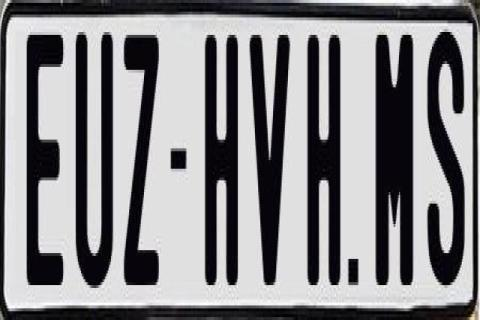E: (26, 29, 68, 279)
H: (304, 29, 344, 297), (205, 29, 243, 288)
M: (375, 32, 413, 296)
S: (426, 29, 460, 294)
U: (75, 32, 118, 288)
V: (247, 32, 293, 296)
Z: (123, 35, 164, 297)
